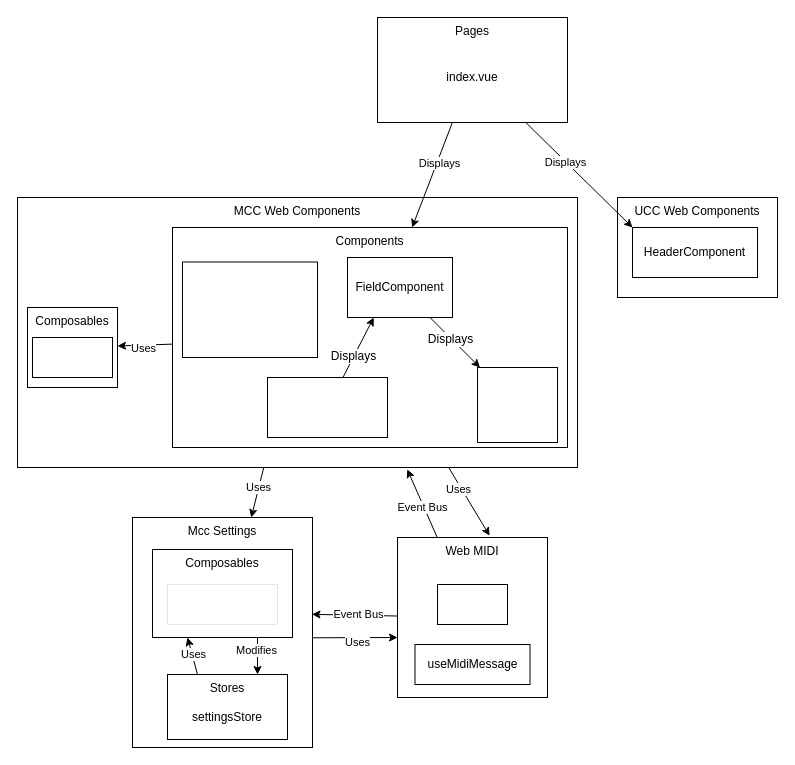
The diagram is 795 pixels wide and 765 high, and some of its shapes have lost their labels. Each missing label, with the centre of its shape:
ColorField SliderField NoteField: (x=517, y=404)
ColorMode LanguageComponent LoadingPopup MenuComponent MidiConsole: (x=250, y=309)
DeviceSettings PresetSettings: (x=327, y=407)
json: (x=72, y=357)
useMidi: (x=472, y=604)
useSettings: (x=222, y=604)
